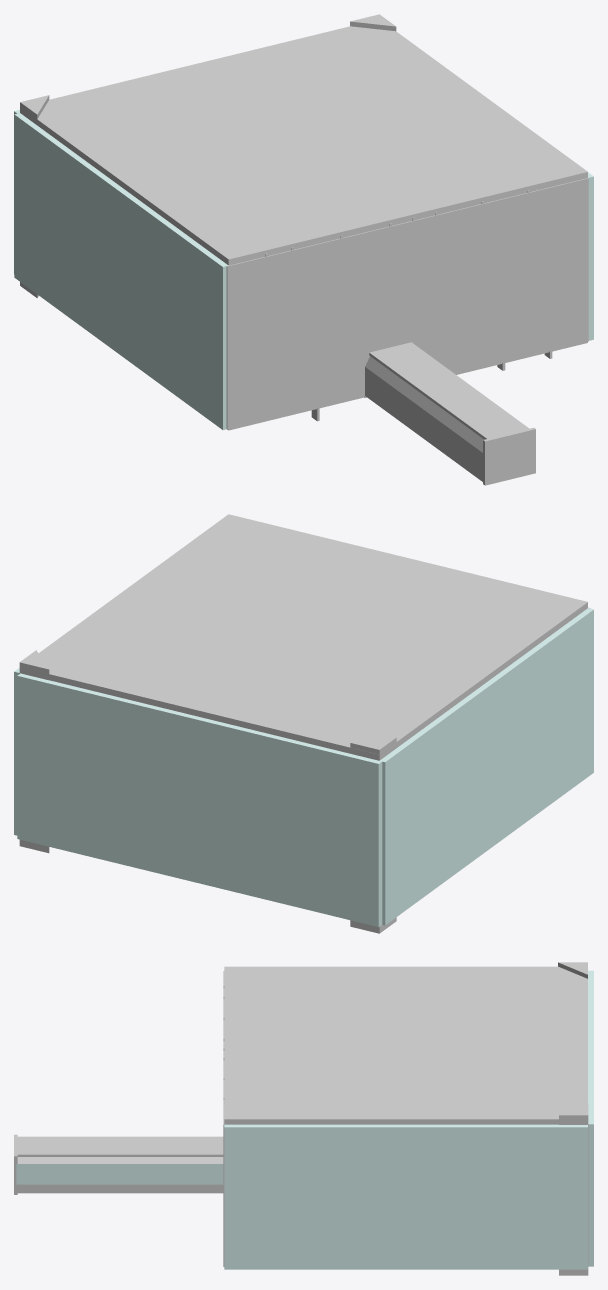
File: jesun.fbx
The picture shows the model from 3 angles, top to bottom: view 1: azimuth 30°, elevation 25°; view 2: azimuth 150°, elevation 25°; view 3: azimuth 270°, elevation 25°; orthographic projection. The views are drawn at different scales.
Parts seen in each view (by area): view 1: Cube.927, Cube.481, Cube.478, Cube.472, Cube.467, Cube.477, Cube.479; view 2: Cube.927, Cube.918, Cube.478, Cylinder.140, Cylinder.119, Cube.479; view 3: Cube.927, Cube.479, Cube.474, Cube.472, Cube.918, Cylinder.119, Cube.481.
Boxes of the visible parts, x1,y1,x2,y2 form: Cube.927: (37, 26, 587, 265); Cube.481: (226, 178, 588, 429); Cube.478: (14, 113, 228, 429); Cube.472: (369, 342, 529, 439); Cube.467: (365, 356, 483, 481); Cube.477: (483, 427, 535, 485); Cube.479: (588, 172, 593, 340); Cube.927: (38, 514, 587, 760); Cube.918: (17, 673, 382, 926); Cube.478: (379, 608, 593, 925); Cylinder.140: (350, 737, 396, 933); Cylinder.119: (19, 650, 49, 853); Cube.479: (14, 668, 19, 835); Cube.927: (224, 966, 587, 1124); Cube.479: (224, 1124, 587, 1269); Cube.474: (16, 1157, 223, 1193); Cube.472: (17, 1136, 223, 1156); Cube.918: (588, 970, 593, 1266); Cylinder.119: (559, 1103, 588, 1275); Cube.481: (223, 971, 224, 1266).
Size of the model in its own units: 2682 by 1298 by 4164.
